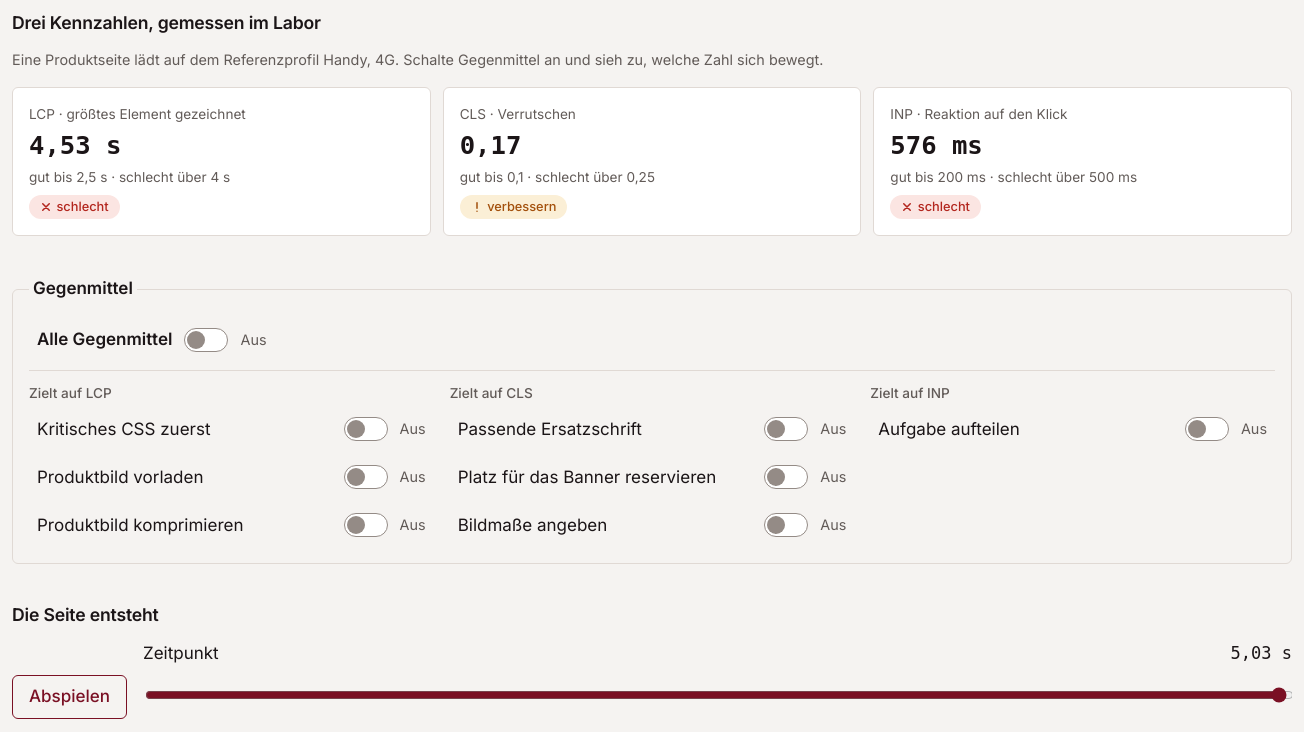
Scenario: D-002 Demo › Produktbild komprimieren: LCP besser, CLS schlechter, Kasten und Ansage mit denselben Zahlen
This screenshot has width=1304, height=732.
Click the switch labelled "Produktbild komprimieren Aus" at (231, 525), box x1=29 y1=503 x2=434 y2=547
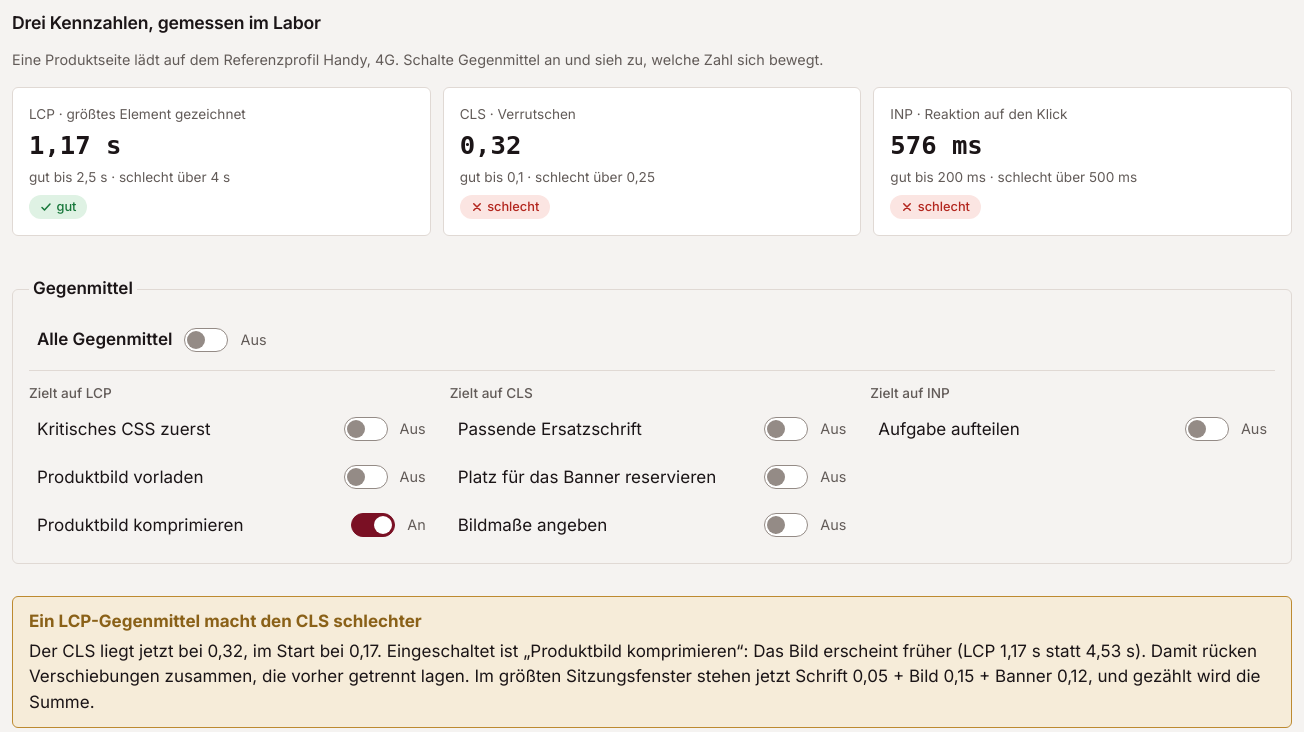
Expected: the list item with class "wv-tile" shows "1,17 s", x1=29 y1=130 x2=122 y2=160
Expected: the list item with class "wv-tile" shows "0,32", x1=460 y1=130 x2=521 y2=160
Expected: the text "Ein LCP-Gegenmittel macht den CLS schlechter" is shown, x1=29 y1=611 x2=422 y2=631
